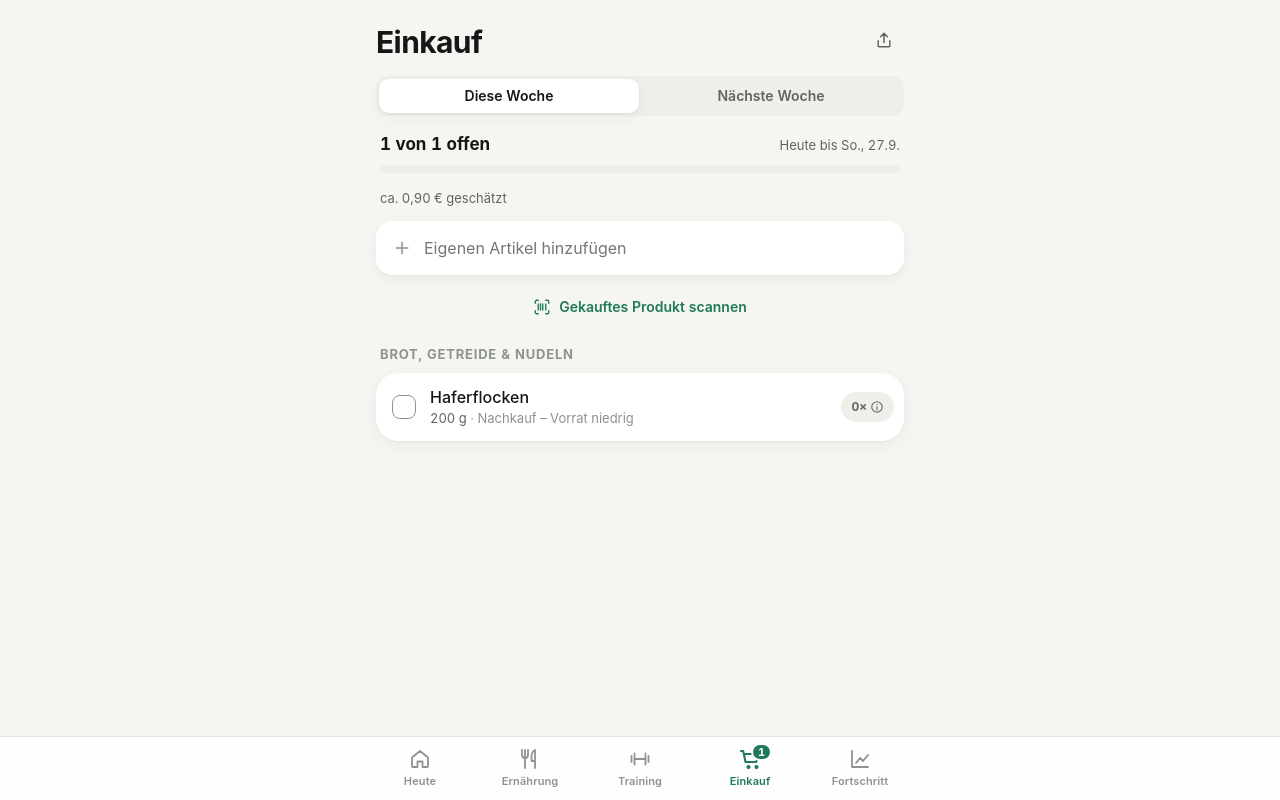
Test case: restock of basics (F8) › a low basic shows as restock, "Diese Woche nicht nachkaufen" hides it, undo brings it back
Click the button named "Wofür wird Haferflocken gebraucht?" at {"x": 868, "y": 407}, box [842,392,894,422]
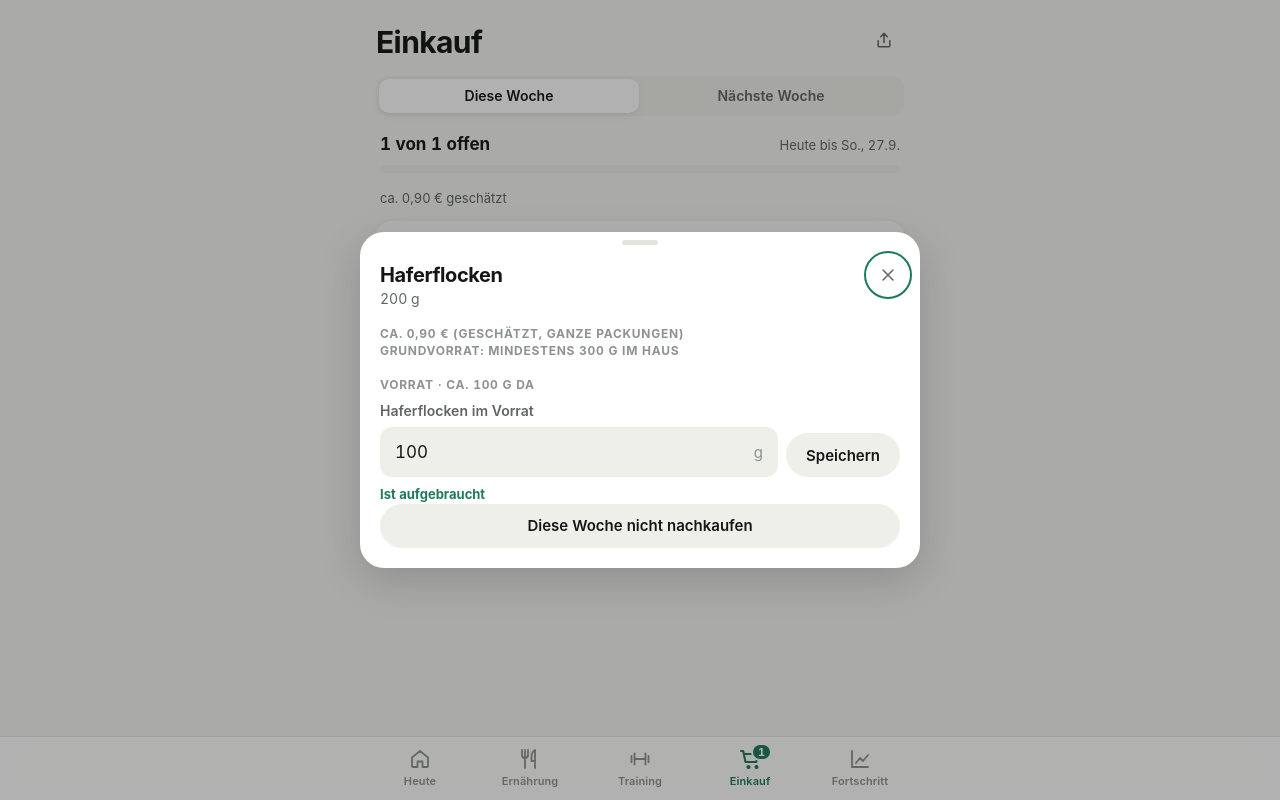
Now the dialog shows "Grundvorrat: mindestens 300 g im Haus", box [360,232,920,568]
Click the button "Diese Woche nicht nachkaufen" at {"x": 640, "y": 526}, box [380,504,900,548]
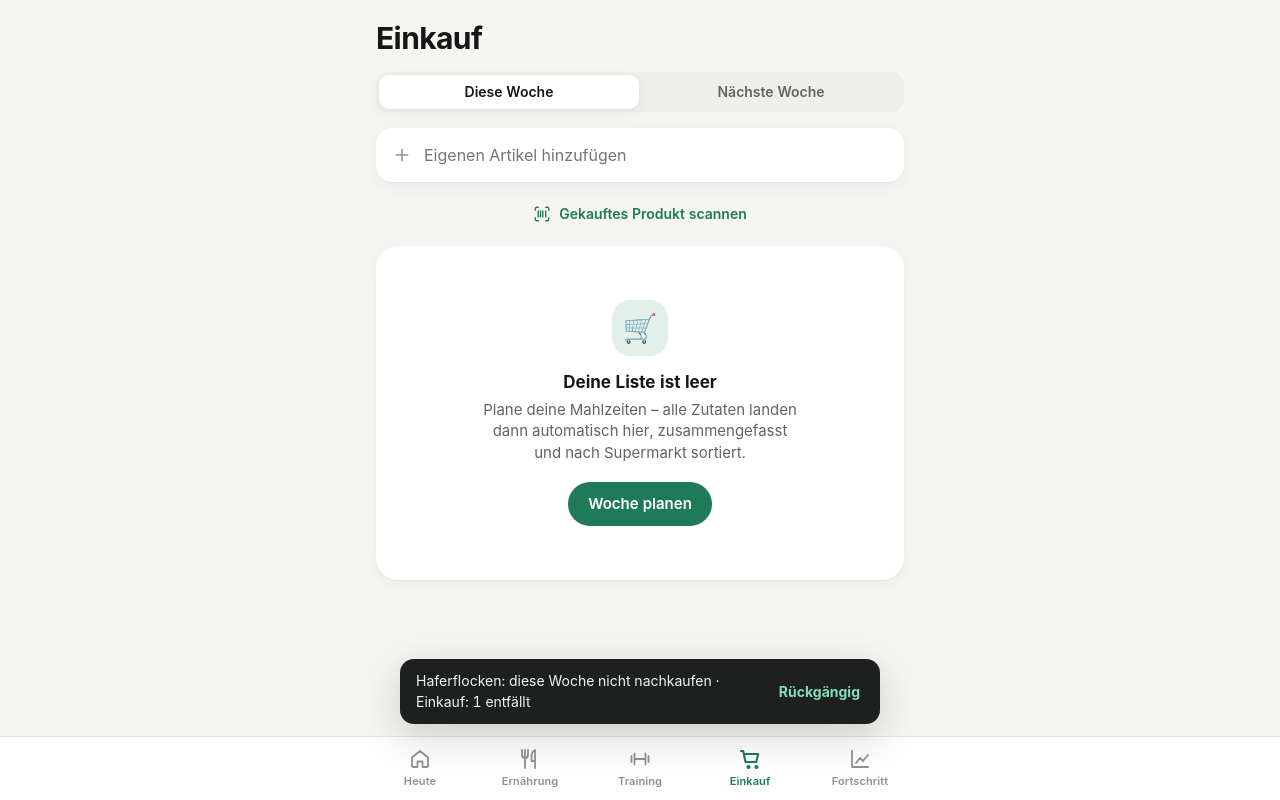
Now the text "Nachkauf – Vorrat niedrig" is gone
Click the button "Rückgängig" at {"x": 819, "y": 692}, box [771,676,868,708]
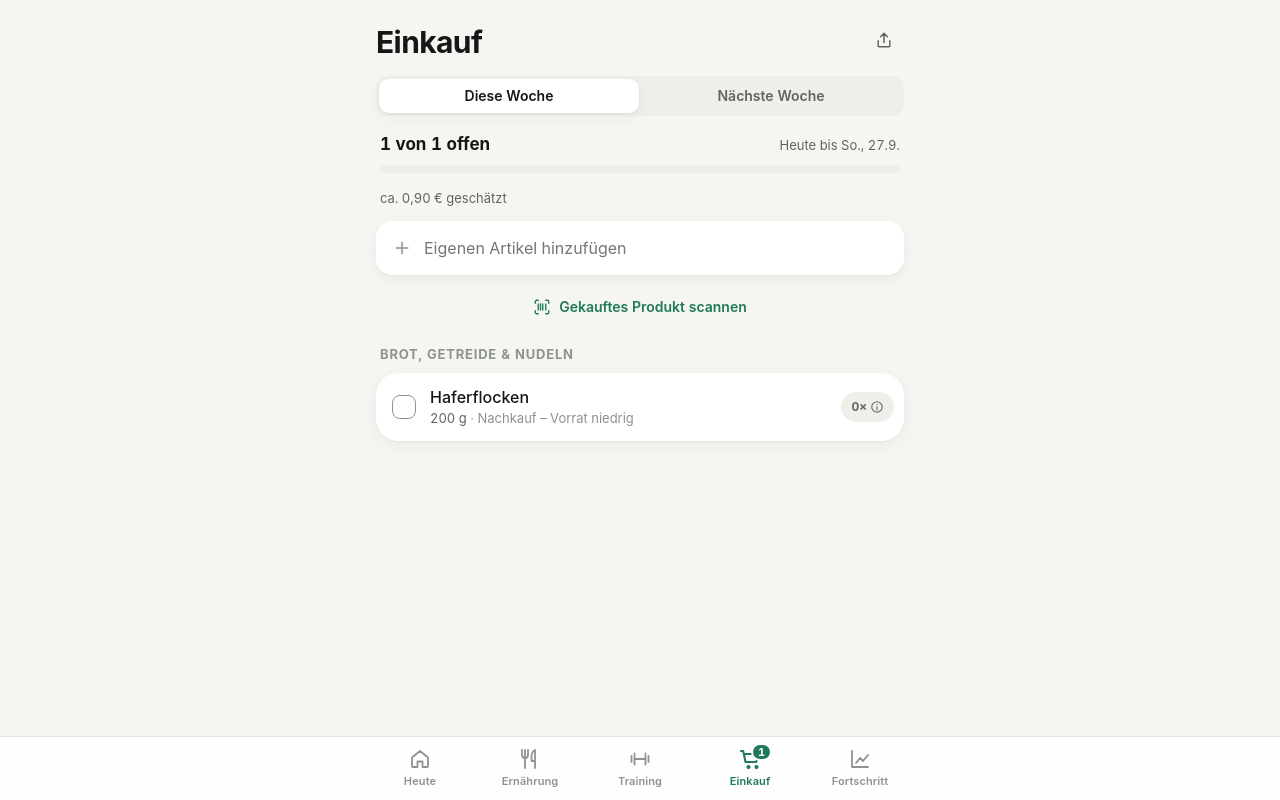
Now the text "Nachkauf – Vorrat niedrig" is shown, box [467,410,634,426]
